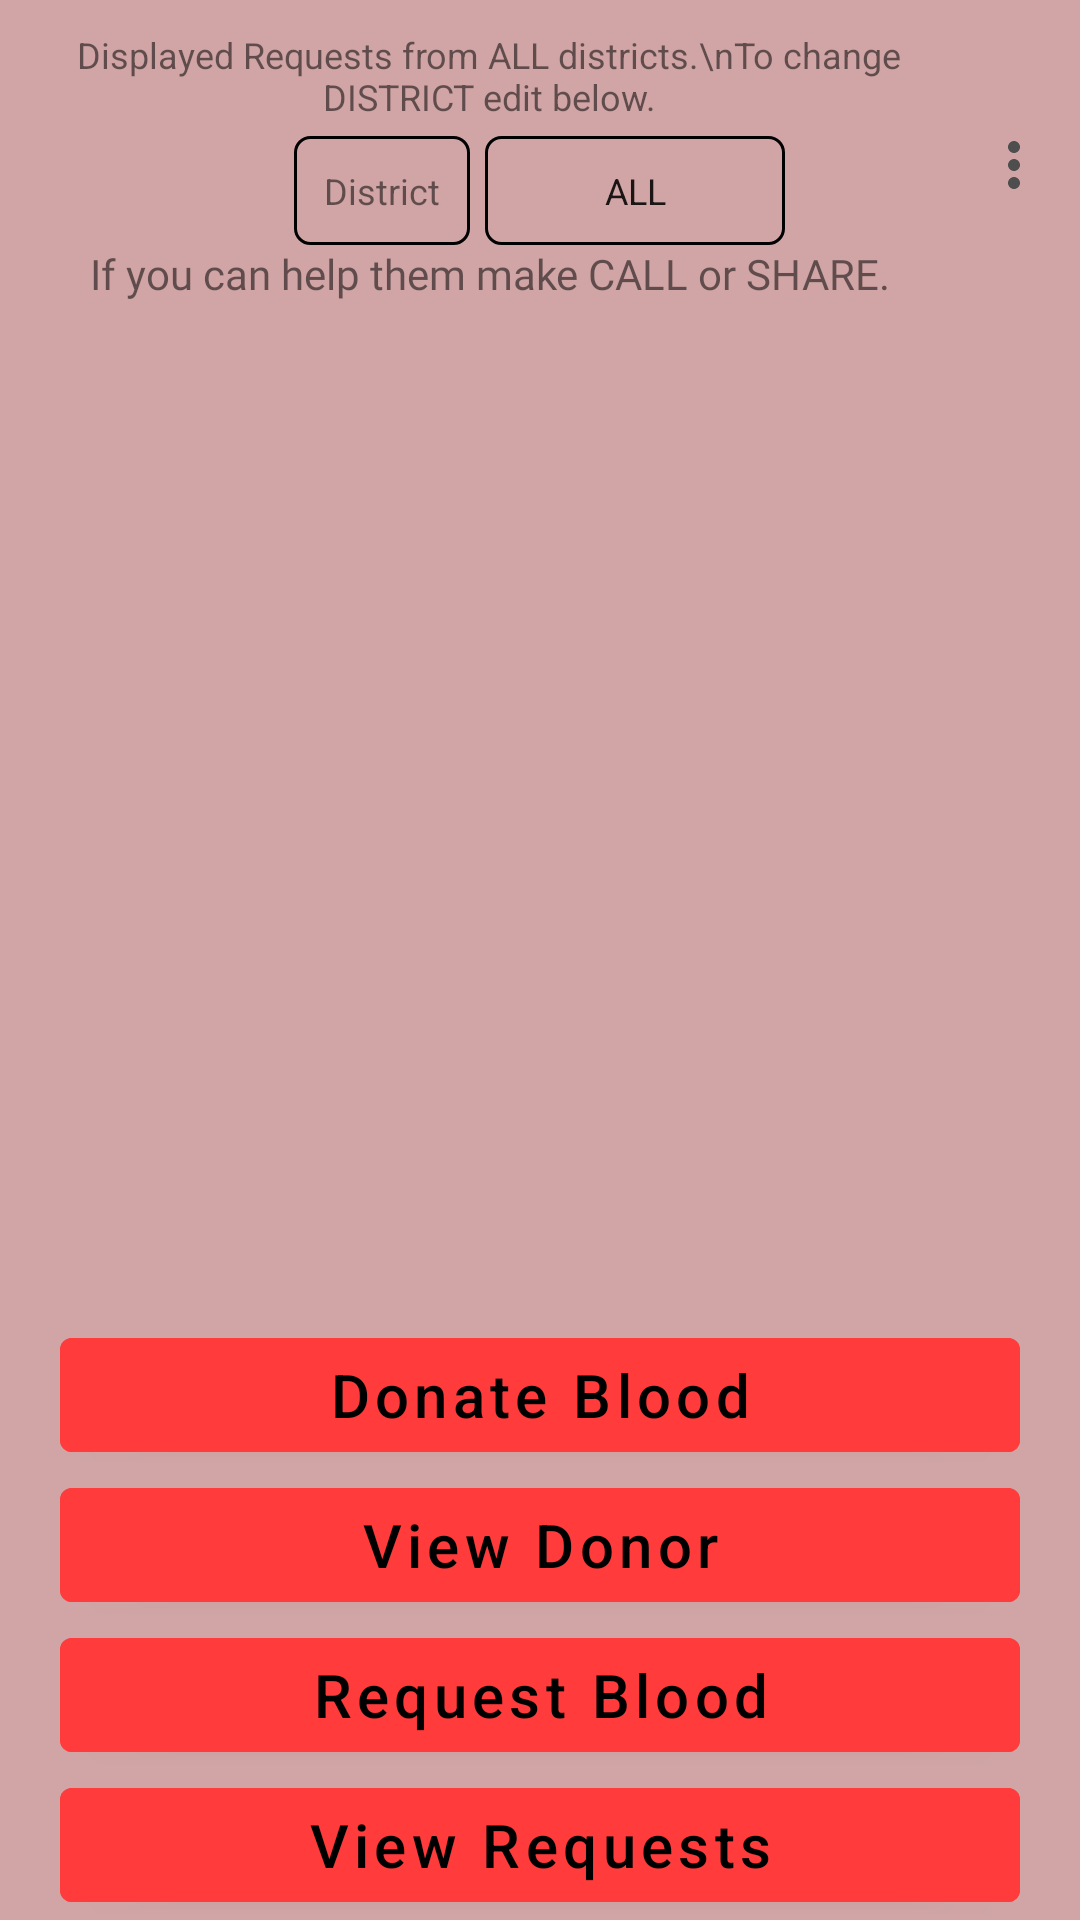

Where icons sit on this 1080 x 1920 app screen, as (x1, y1, x2, y2):
more vert: (1008, 141, 1020, 189)
